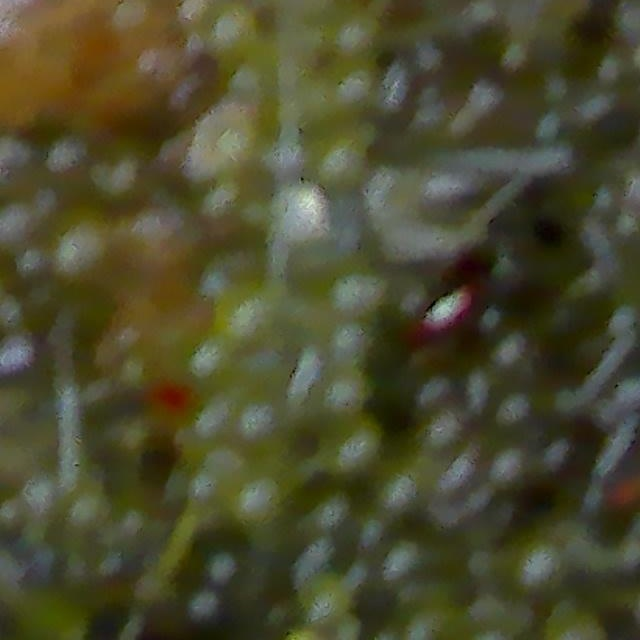SeaGrape: (204, 1, 257, 71), (423, 405, 475, 472), (411, 371, 467, 433), (223, 296, 277, 358), (323, 418, 379, 476), (270, 183, 325, 239), (224, 471, 278, 528), (315, 368, 363, 426), (488, 445, 534, 504), (190, 398, 245, 445), (332, 278, 385, 326), (329, 9, 379, 59), (329, 80, 378, 127), (324, 321, 375, 363), (241, 408, 282, 455), (327, 144, 359, 184)
